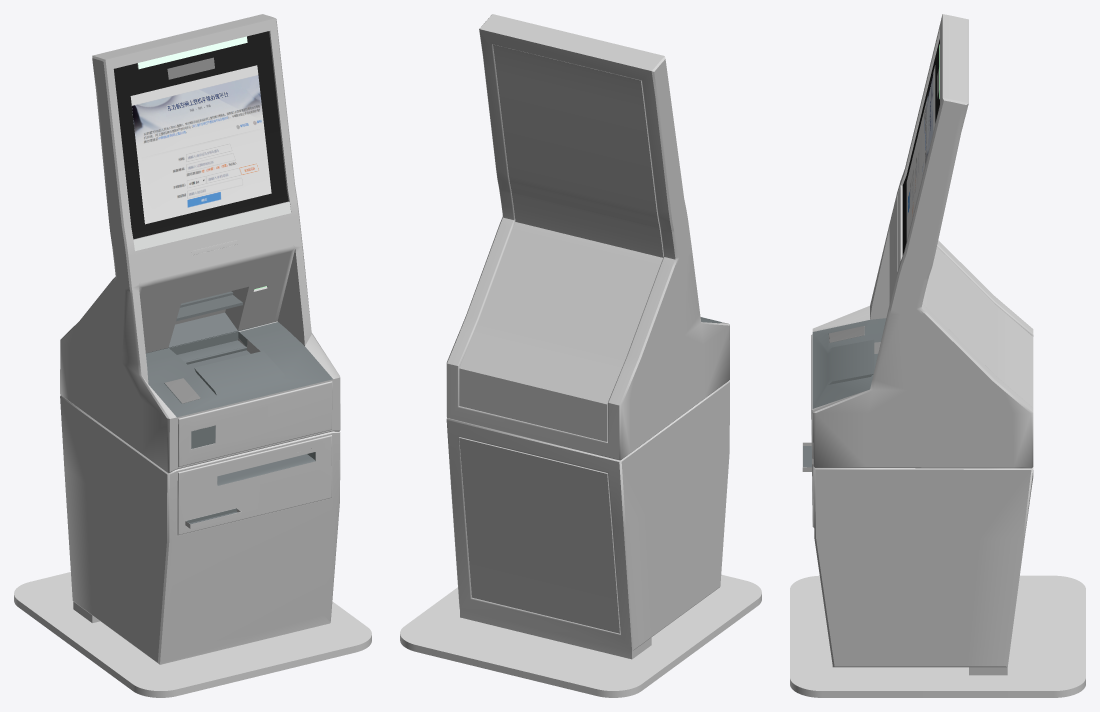
File: guiji-standalone.gltf
3 renders of one model, left to right at view 1: azimuth 30°, elevation 25°; view 2: azimuth 150°, elevation 25°; view 3: azimuth 270°, elevation 25°, orthographic.
Parts seen in each view (by area): view 1: ???.015, ???.014, ???.016; view 2: ???.015, ???.014; view 3: ???.015, ???.014.
Boxes of the visible parts, <box> form: ???.015: <box>60,14,340,664</box>; ???.014: <box>14,572,371,697</box>; ???.016: <box>176,295,242,321</box>; ???.015: <box>446,14,729,659</box>; ???.014: <box>400,574,761,697</box>; ???.015: <box>802,14,1033,675</box>; ???.014: <box>790,575,1085,697</box>.
Bounding box in the file's own units: 0.6307 × 1.49 × 0.6837.
8 materials, 1 textured.
